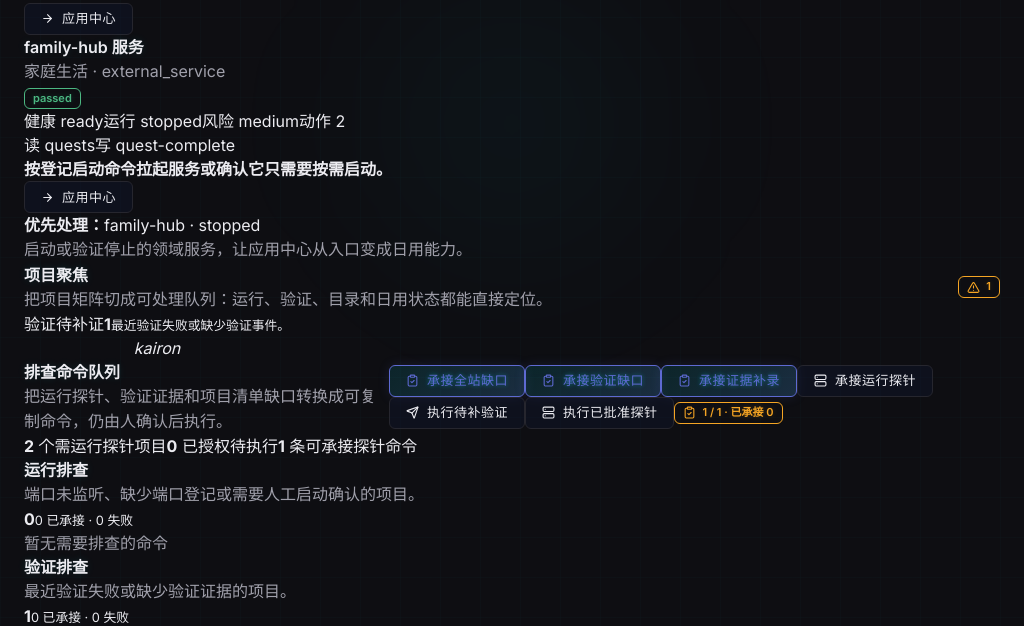
SystemMapView interaction › batches runtime probe triage without executing commands
(page scrolled)
Click the button with aria-label "批量承接运行探针": (865, 381) [797, 365, 933, 397]
(page scrolled)
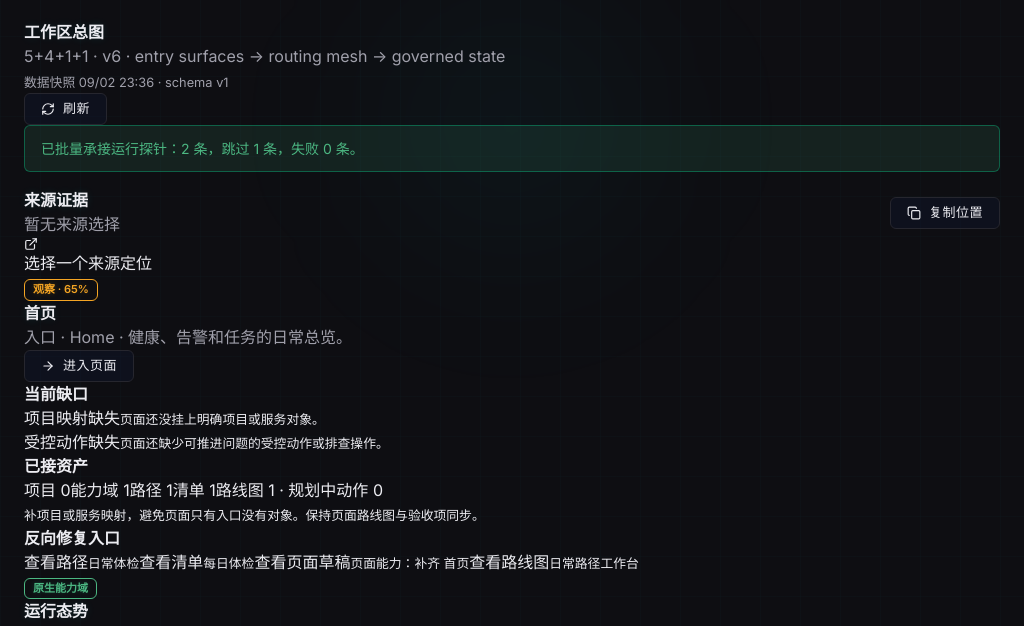
Check: the message shows "已批量承接运行探针：2 条", box [41, 140, 364, 157]
